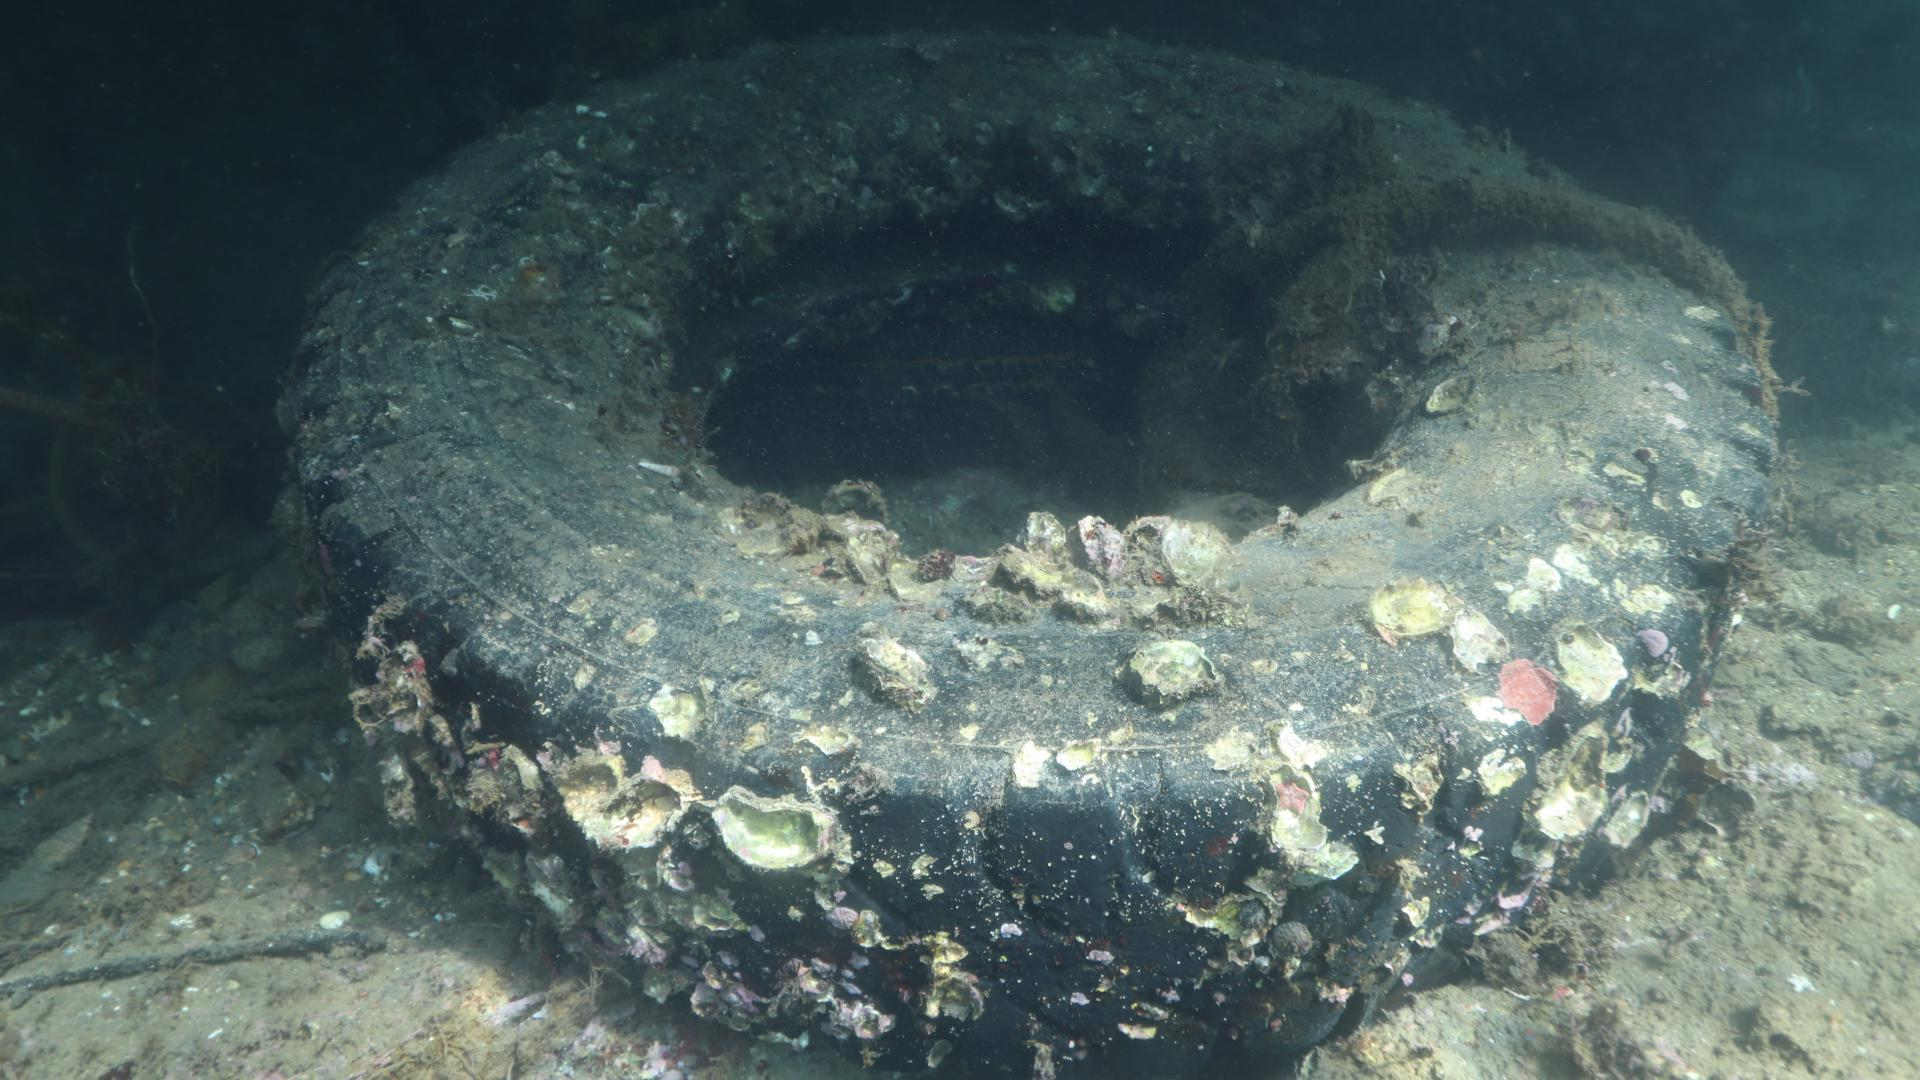bundle of ropes: (1158, 167, 1778, 411)
tire: (280, 16, 1778, 1080)
